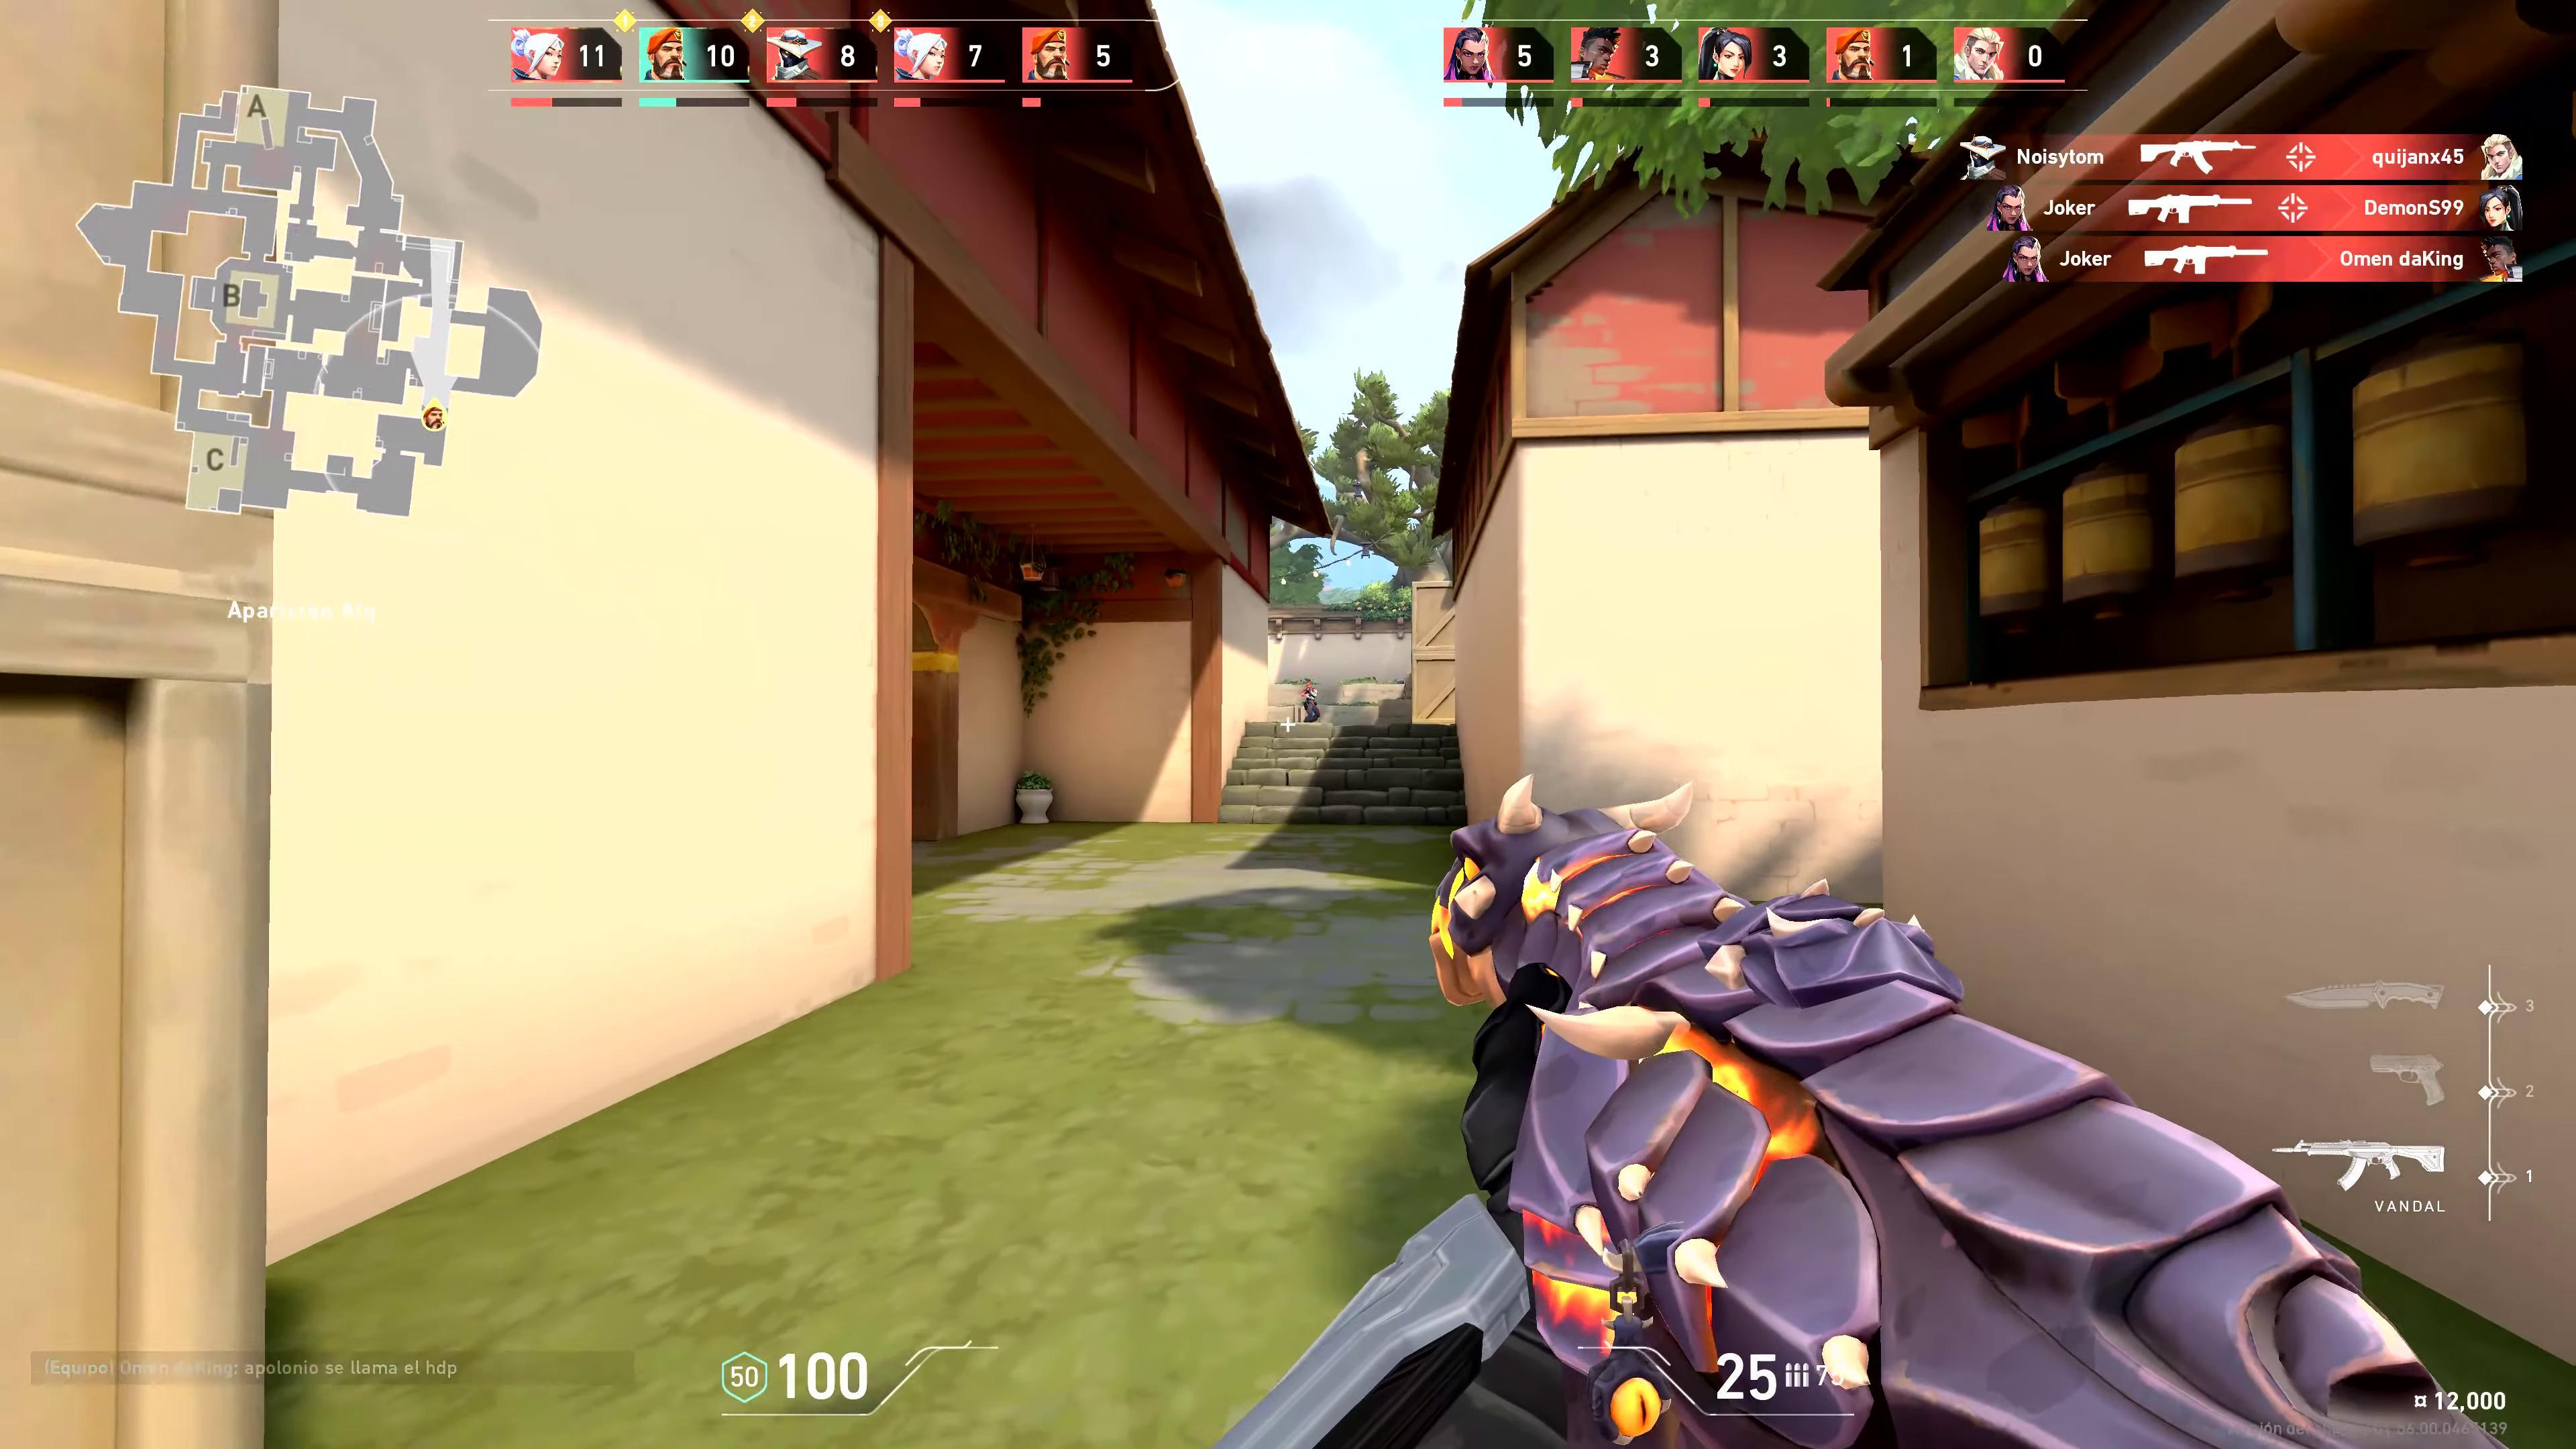Body: (1300, 679, 1323, 720)
